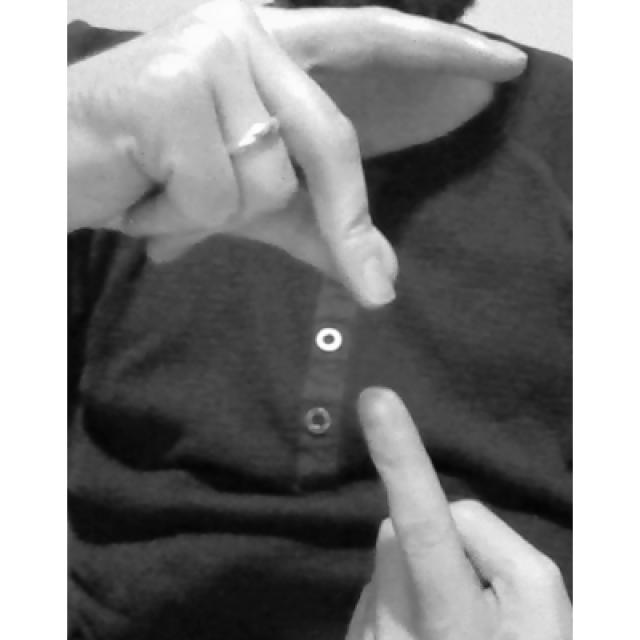I-: (99, 7, 570, 638)
